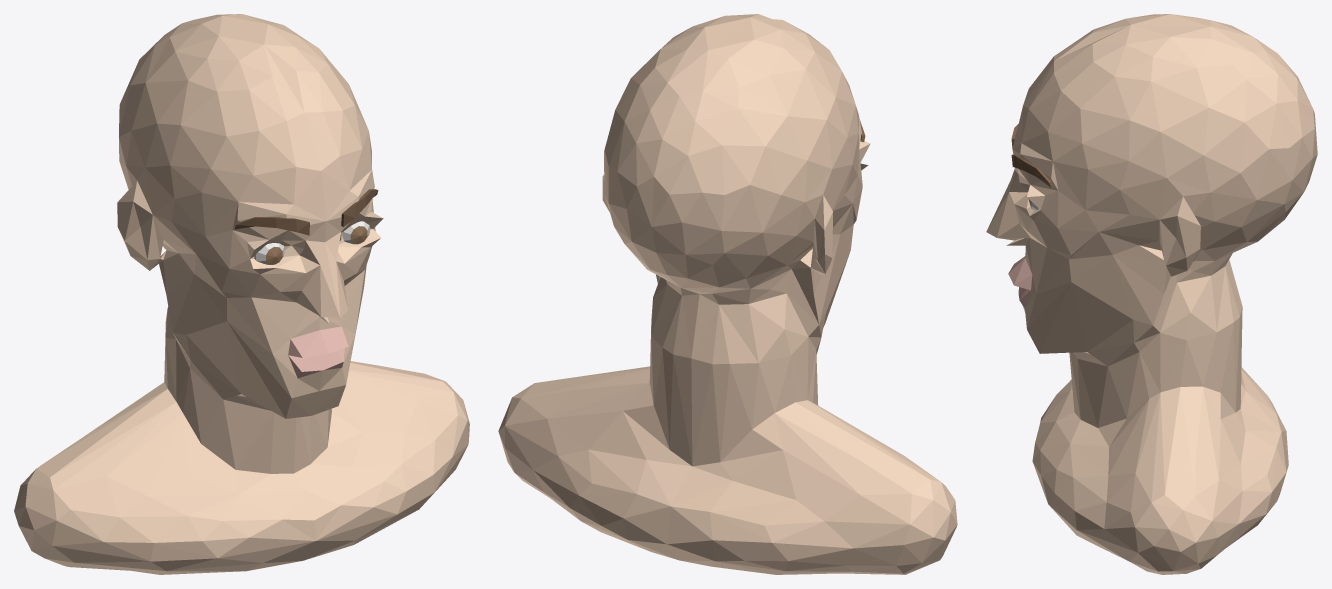
File: head_mid.glb
3 renders of one model, left to right at view 1: azimuth 30°, elevation 25°; view 2: azimuth 150°, elevation 25°; view 3: azimuth 270°, elevation 25°, orthographic. The views are drawn at different scales.
Visible parts, largest first — view 1: Head_Main, Eyebrow_R; view 2: Head_Main; view 3: Head_Main, Eyebrow_L.
Boxes of the visible parts, left/top/right/bottom form: Head_Main: left=14, top=14, right=469, bottom=574; Eyebrow_R: left=235, top=217, right=309, bottom=235; Head_Main: left=498, top=14, right=957, bottom=574; Head_Main: left=986, top=14, right=1317, bottom=574; Eyebrow_L: left=1011, top=154, right=1053, bottom=187.
Bounding box in the file's own units: 0.3209 × 0.3406 × 0.2204.
